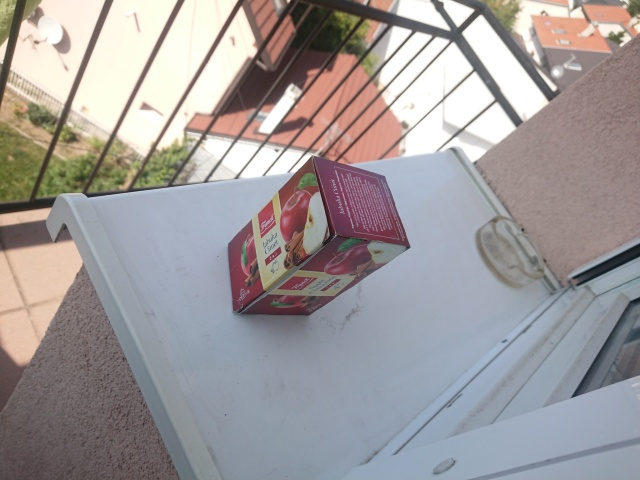Franck Apple Cinnamon Tea 60g: (224, 153, 413, 317)
